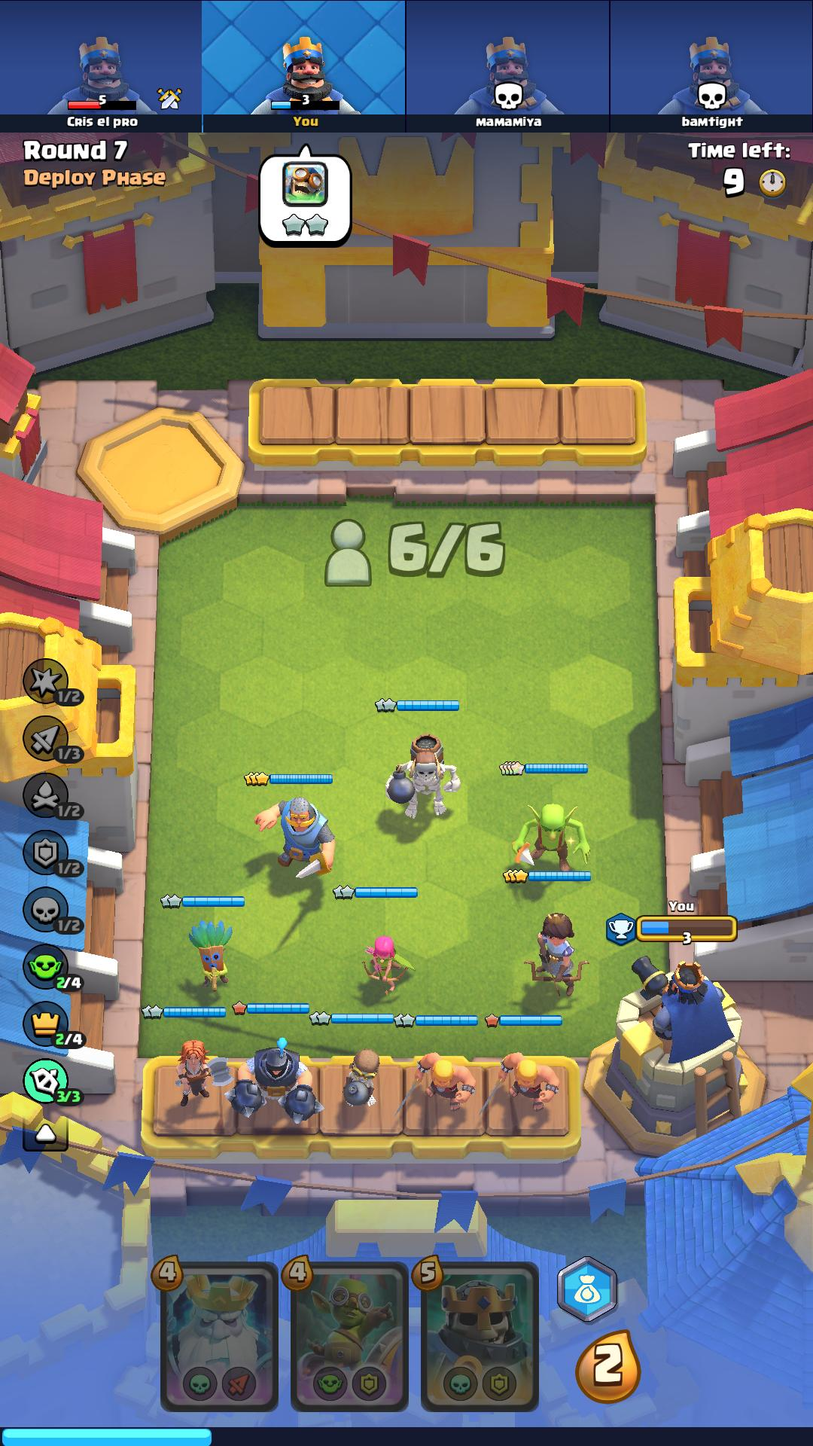archer: (352, 934, 411, 995)
barbarian: (484, 1046, 566, 1131), (399, 1046, 477, 1126)
bomber: (337, 1043, 386, 1116)
dart: (176, 913, 242, 993)
giant: (380, 732, 465, 825)
goblin: (506, 798, 592, 873)
hand-ghost: (163, 1266, 275, 1412)
hand-king: (423, 1265, 536, 1411)
hand-machine: (291, 1263, 405, 1411)
knight: (252, 795, 335, 882)
mega: (226, 1039, 323, 1125)
princess: (515, 900, 592, 1000)
valkyrie: (164, 1033, 232, 1107)
